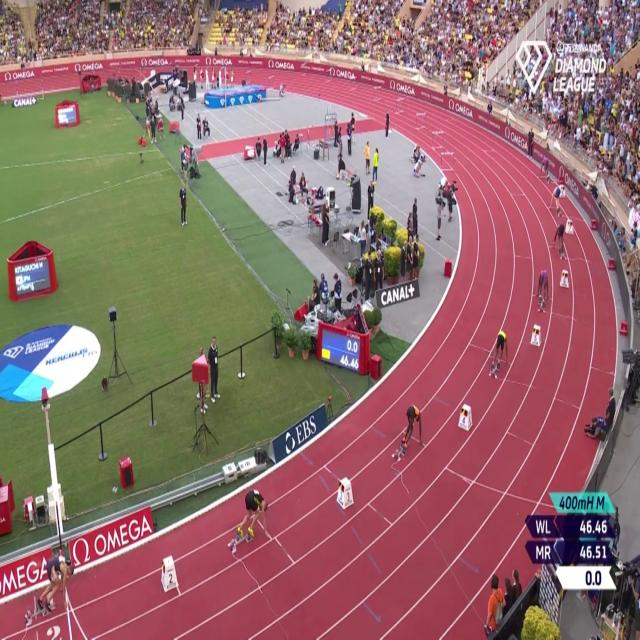athlete: (38, 555, 76, 614), (236, 482, 272, 543), (402, 400, 426, 450), (490, 328, 507, 378), (536, 264, 552, 306), (553, 222, 567, 255), (548, 186, 562, 214), (538, 157, 549, 183)
hurdle: (439, 151, 455, 172), (431, 129, 445, 150), (415, 110, 427, 132), (394, 94, 405, 115), (266, 74, 278, 91), (324, 66, 334, 86), (348, 74, 358, 94), (372, 85, 382, 105), (245, 69, 253, 86), (300, 61, 308, 78)
